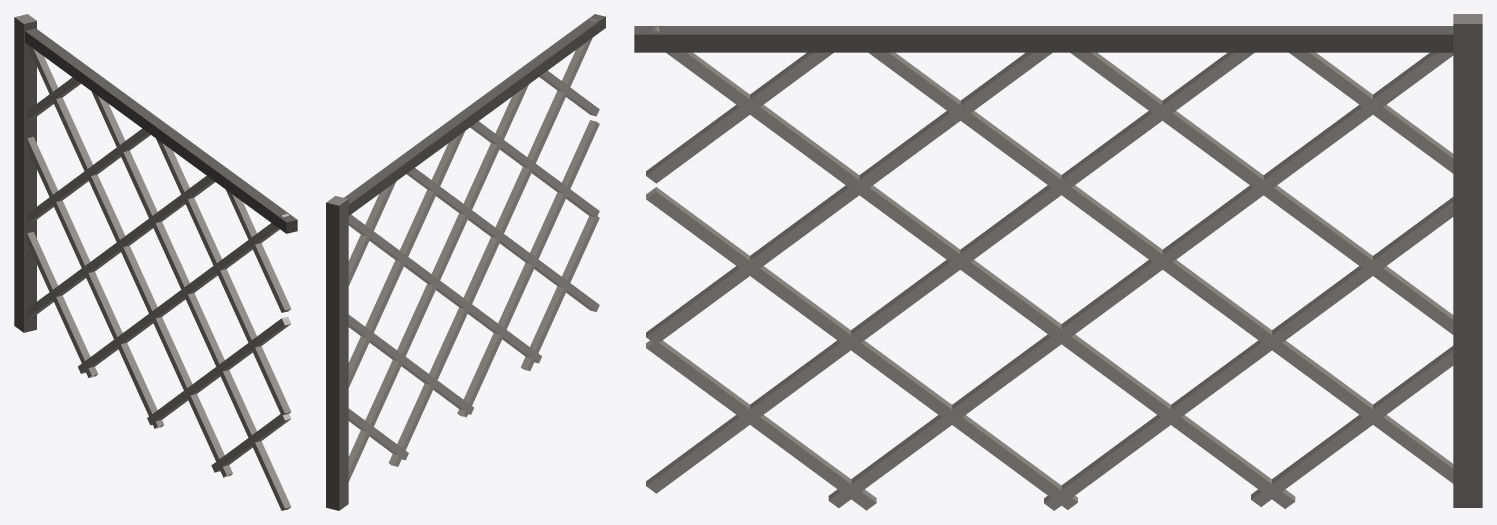
The model's file is SA_Prop_Fence_Wire_Full_01.glb.
3 renders of one model, left to right at view 1: azimuth 30°, elevation 25°; view 2: azimuth 150°, elevation 25°; view 3: azimuth 270°, elevation 25°, orthographic. The views are drawn at different scales.
Visible parts, largest first — view 1: SA_Prop_Fence_Wire_Full_01; view 2: SA_Prop_Fence_Wire_Full_01; view 3: SA_Prop_Fence_Wire_Full_01.
Boxes of the visible parts, x1,y1,x2,y2 form: SA_Prop_Fence_Wire_Full_01: (14, 14, 297, 510); SA_Prop_Fence_Wire_Full_01: (326, 14, 605, 510); SA_Prop_Fence_Wire_Full_01: (634, 14, 1482, 510).
Bounding box in the file's own units: 0.061 × 1.37 × 2.16.
Materials: 1 (1 with a texture image).
